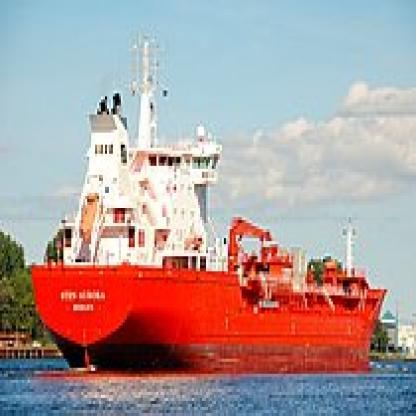Tanker: (48, 69, 383, 377)
